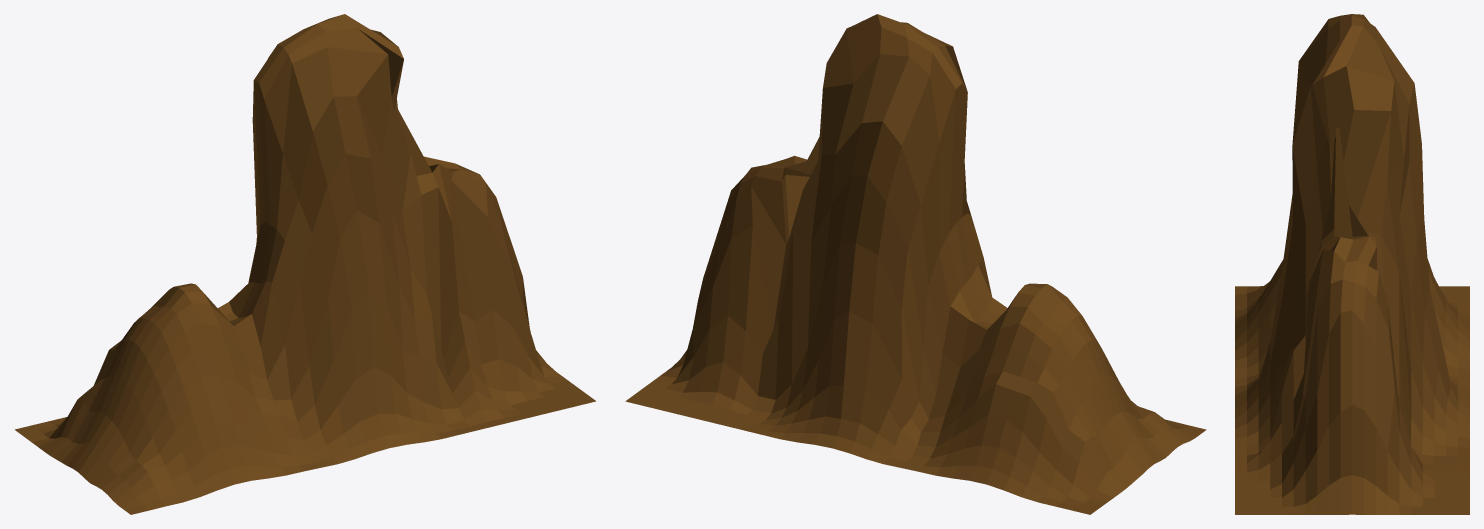
Rendered from Mountains.fbx.
3 renders of one model, left to right at view 1: azimuth 30°, elevation 25°; view 2: azimuth 150°, elevation 25°; view 3: azimuth 270°, elevation 25°, orthographic.
Visible parts, largest first — view 1: Plane; view 2: Plane; view 3: Plane.
Boxes of the visible parts, box(x1,y1,x2,y2) form: Plane: box(14, 14, 595, 514); Plane: box(625, 14, 1206, 514); Plane: box(1235, 14, 1469, 514).
Size of the model in its own units: 1562 by 1262 by 678.
